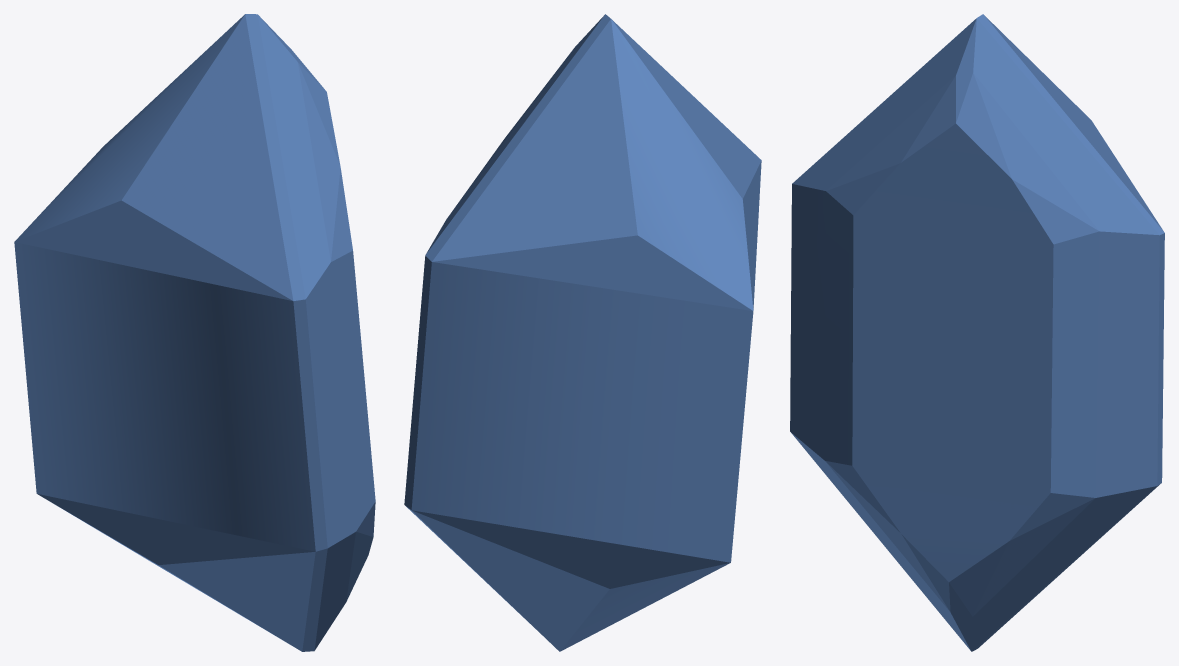
The model's file is BR5_8shapes_Hex_Classic_Stone.001 3.glb.
3 views of the same model, side by side, from view 1: azimuth 30°, elevation 25°; view 2: azimuth 150°, elevation 25°; view 3: azimuth 270°, elevation 25° (orthographic). The views are drawn at different scales.
Visible parts, largest first — view 1: BR5_8shapes_Hex_Classic_Stone.001; view 2: BR5_8shapes_Hex_Classic_Stone.001; view 3: BR5_8shapes_Hex_Classic_Stone.001.
Boxes of the visible parts, x1,y1,x2,y2 form: BR5_8shapes_Hex_Classic_Stone.001: [14, 14, 375, 651]; BR5_8shapes_Hex_Classic_Stone.001: [404, 14, 761, 651]; BR5_8shapes_Hex_Classic_Stone.001: [790, 14, 1164, 651].
Bounding box in the file's own units: 0.3445 × 0.667 × 0.3714.
